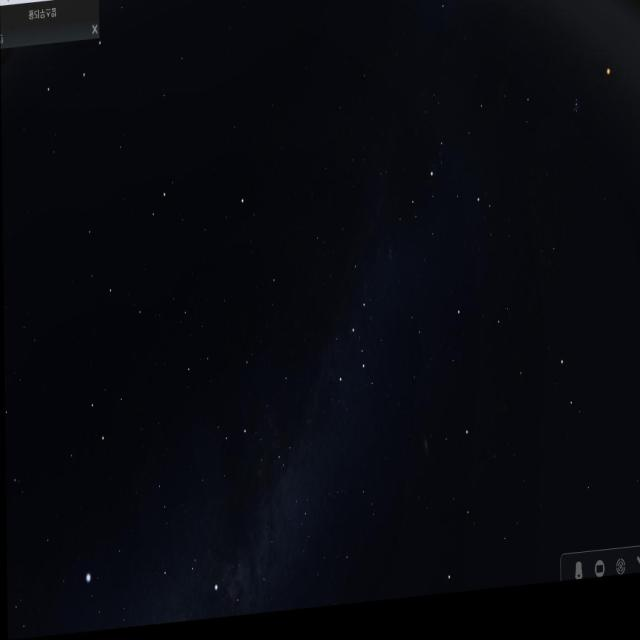cassiopeia: (323, 259, 380, 402)
pleiades: (566, 87, 588, 144)
